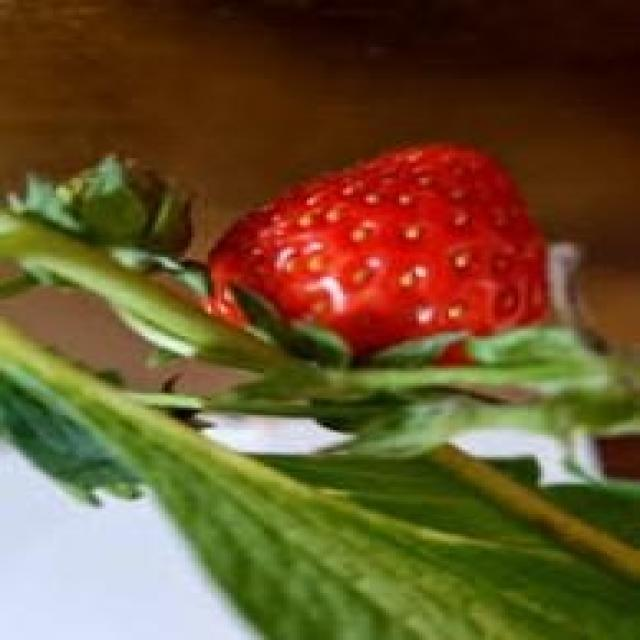ripe: (197, 142, 557, 362)
